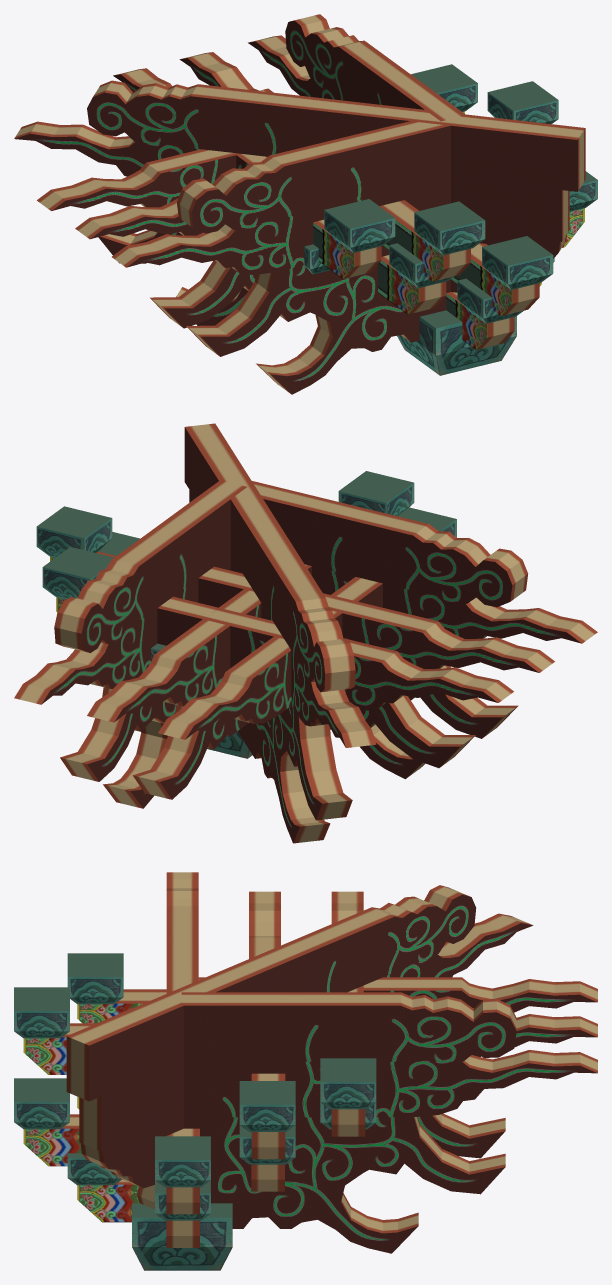
The model's file is SM_Geumsan_Mi_Gongpo_AA.fbx.
3 views of the same model, one above another, from view 1: azimuth 30°, elevation 25°; view 2: azimuth 150°, elevation 25°; view 3: azimuth 270°, elevation 25° (orthographic). The views are drawn at different scales.
Parts seen in each view (by area): view 1: SM_Geumsan_Mi_Gongpo_AA; view 2: SM_Geumsan_Mi_Gongpo_AA; view 3: SM_Geumsan_Mi_Gongpo_AA.
Part boxes in pixels (bbox=[...]): SM_Geumsan_Mi_Gongpo_AA: bbox=[14, 14, 597, 394]; SM_Geumsan_Mi_Gongpo_AA: bbox=[14, 423, 597, 843]; SM_Geumsan_Mi_Gongpo_AA: bbox=[14, 872, 597, 1270].
Size of the model in its own units: 259 by 126 by 261.
